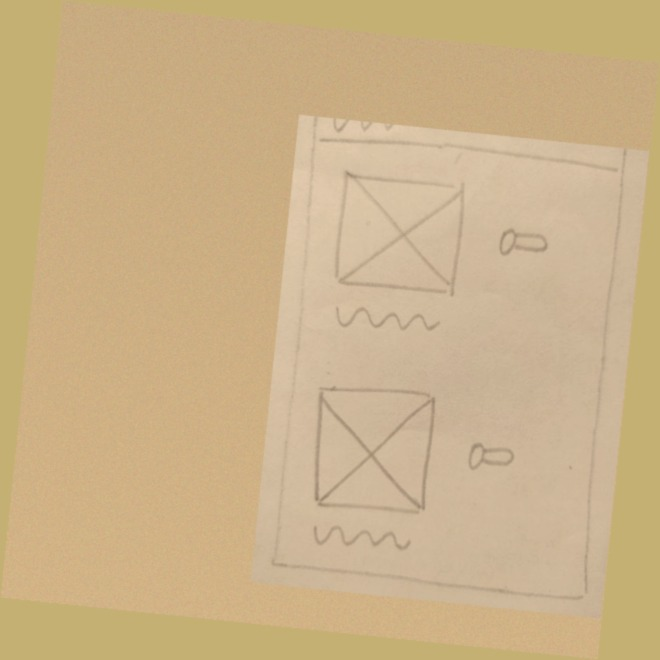image: (325, 162, 470, 305), (299, 375, 444, 518)
switch: (490, 220, 559, 265), (455, 432, 524, 477)
text: (328, 299, 442, 343), (305, 514, 419, 558)
